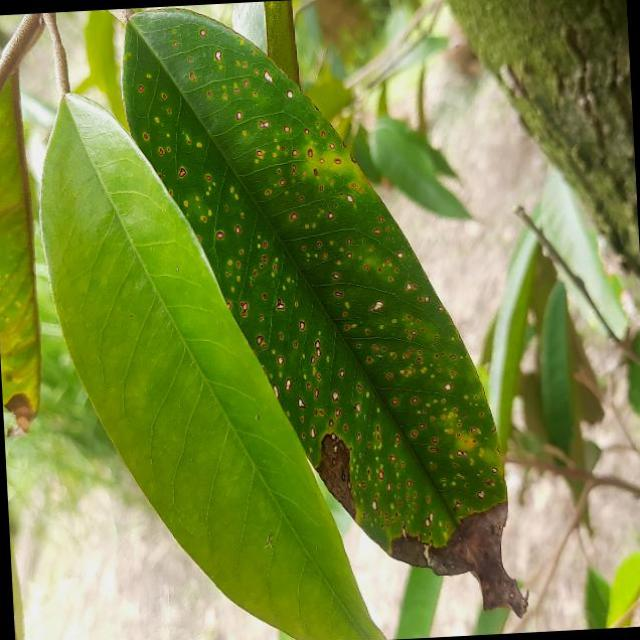Leaf Spot: (112, 0, 542, 640)
No Disease: (34, 78, 398, 640)
